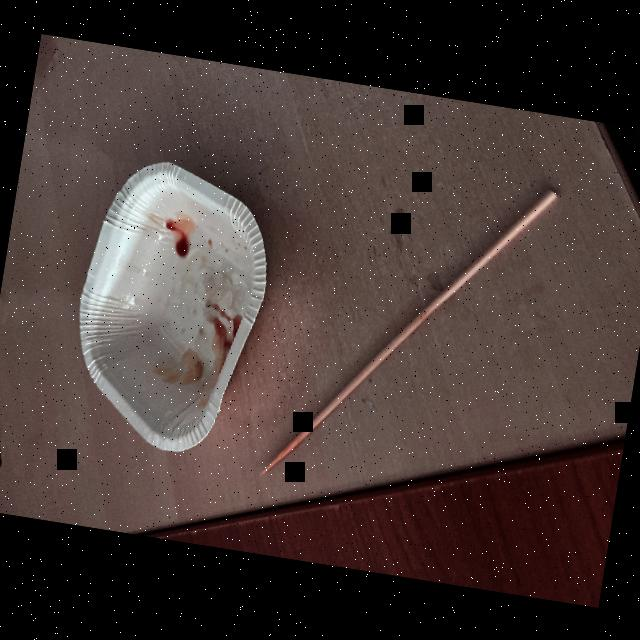cardboard_bowl: (49, 148, 290, 463)
stick: (255, 137, 571, 520)
